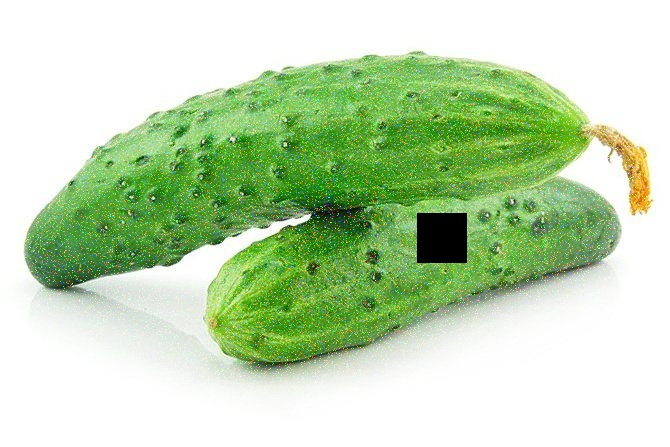cucumber: (34, 44, 593, 285), (223, 181, 616, 355)
